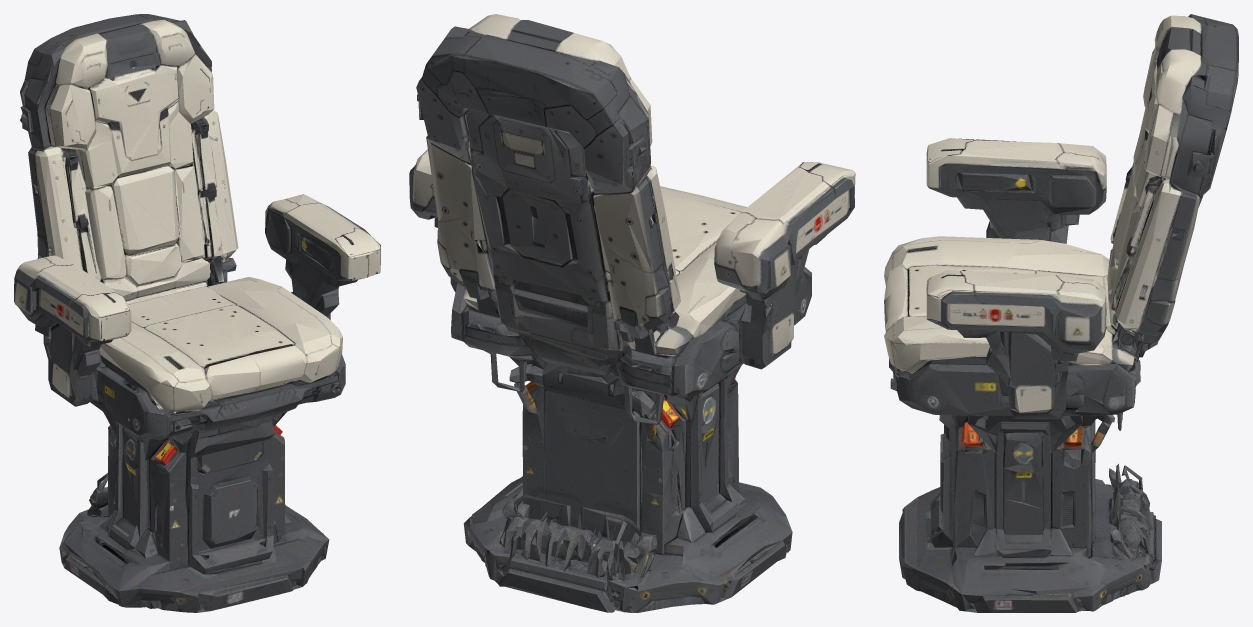
File: light_pilot_chair.glb
3 views of the same model, side by side, from view 1: azimuth 30°, elevation 25°; view 2: azimuth 150°, elevation 25°; view 3: azimuth 270°, elevation 25° (orthographic). The views are drawn at different scales.
Visible parts, largest first — view 1: output_unwrapped; view 2: output_unwrapped; view 3: output_unwrapped.
Boxes of the visible parts, x1=… form: output_unwrapped: x1=14, y1=14, x2=380, y2=612; output_unwrapped: x1=409, y1=14, x2=855, y2=612; output_unwrapped: x1=884, y1=14, x2=1238, y2=612.
Size of the model in its own units: 1.26 by 1.9 by 1.18.
Materials: 1 (1 with a texture image).
